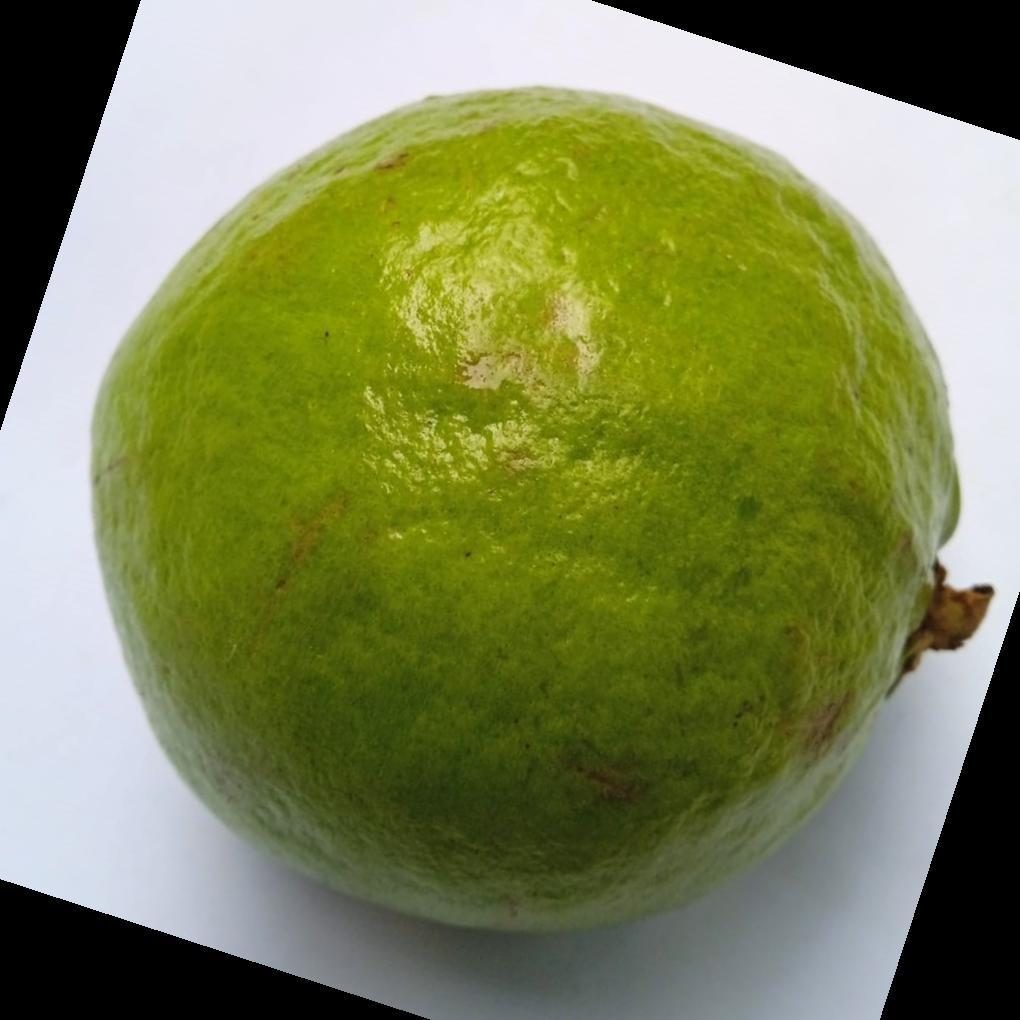FreshGuava: (85, 85, 985, 939)
